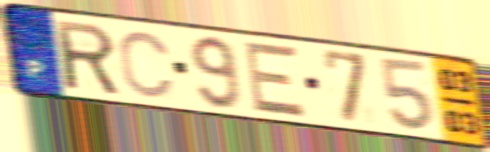5: (377, 56, 437, 133)
7: (319, 46, 372, 126)
9: (186, 32, 245, 112)
C: (116, 29, 177, 101)
E: (243, 39, 309, 120)
R: (52, 18, 124, 98)
